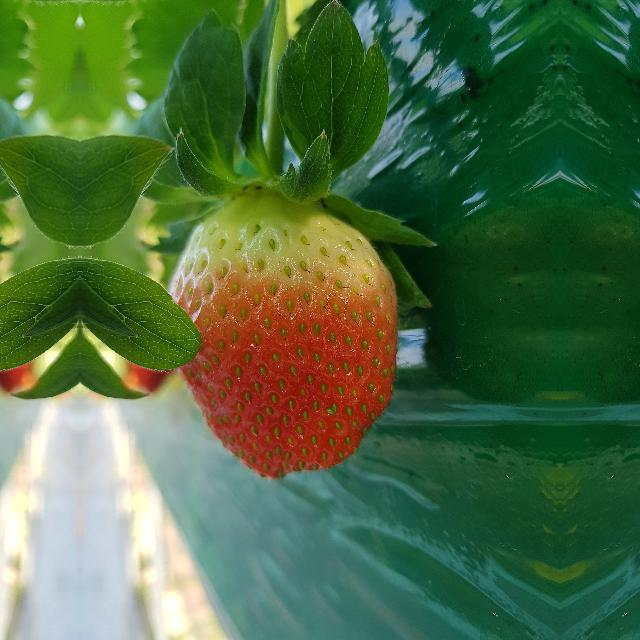Health_75: (166, 193, 400, 481)
